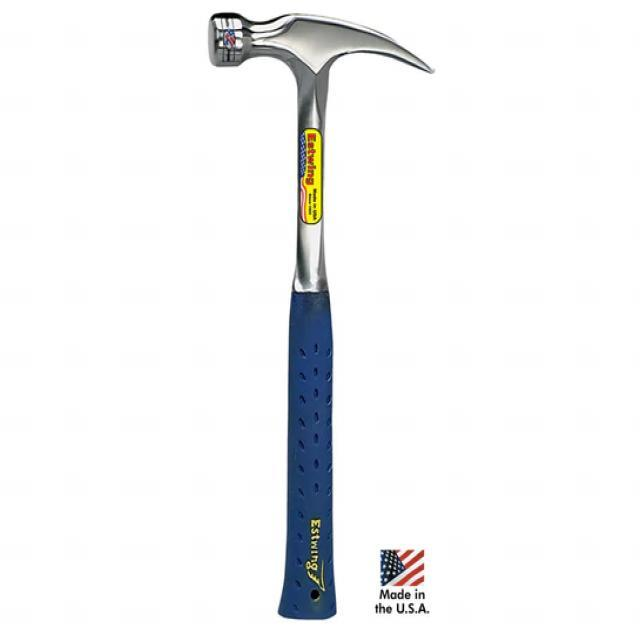hammer: (192, 12, 446, 624)
